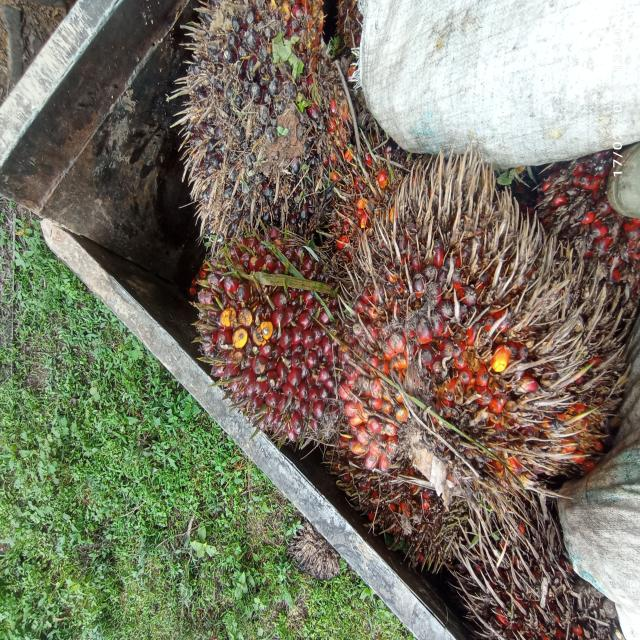fraksi 00: (176, 0, 372, 258)
fraksi 1: (177, 223, 348, 470)
fraksi 4: (328, 133, 590, 518)
